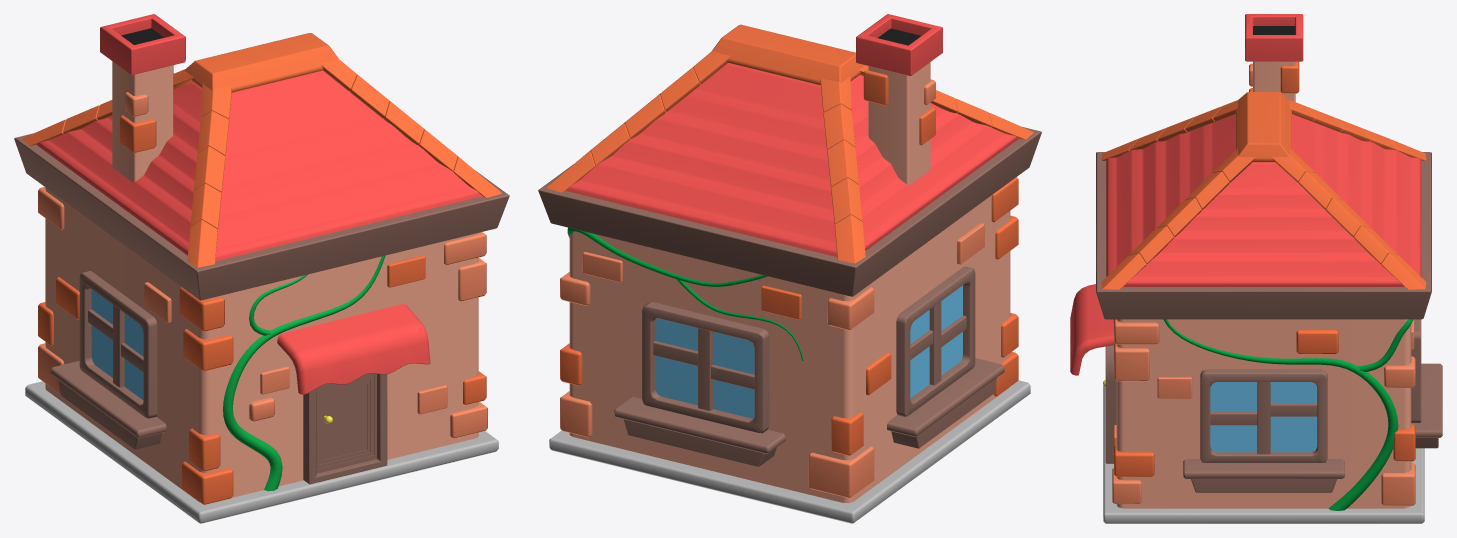
File: Town_10_House_1.glb
The picture shows the model from 3 angles, left to right: view 1: azimuth 30°, elevation 25°; view 2: azimuth 150°, elevation 25°; view 3: azimuth 270°, elevation 25°; orthographic projection. The views are drawn at different scales.
Parts seen in each view (by area): view 1: Town_10_House_1; view 2: Town_10_House_1; view 3: Town_10_House_1.
Part boxes in pixels (x1,y1,x2,y2): Town_10_House_1: [14, 14, 509, 523]; Town_10_House_1: [538, 14, 1041, 523]; Town_10_House_1: [1070, 14, 1442, 523].
Size of the model in its own units: 6.41 by 7.58 by 6.7.
Materials: 1 (1 with a texture image).
